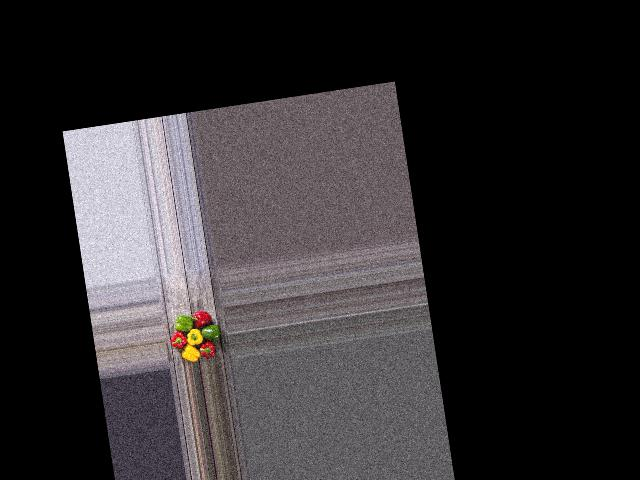bell_pepper: (195, 340, 217, 362)
